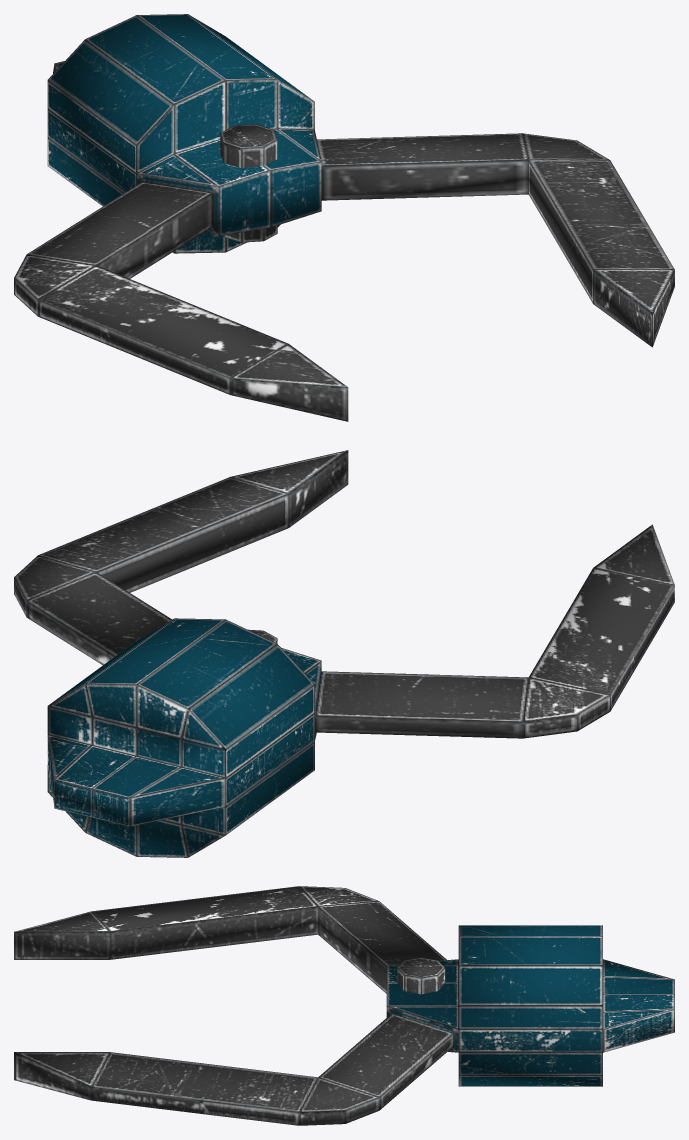
The model's file is Boss2_Claw.fbx.
3 views of the same model, one above another, from view 1: azimuth 30°, elevation 25°; view 2: azimuth 150°, elevation 25°; view 3: azimuth 270°, elevation 25° (orthographic). The views are drawn at different scales.
Parts seen in each view (by area): view 1: Mesh; view 2: Mesh; view 3: Mesh.
Part boxes in pixels (bbox=[...]): Mesh: bbox=[14, 14, 674, 421]; Mesh: bbox=[14, 450, 674, 857]; Mesh: bbox=[14, 886, 674, 1125].
Size of the model in its own units: 2.23 by 0.64 by 2.75.
1 material, 1 textured.
